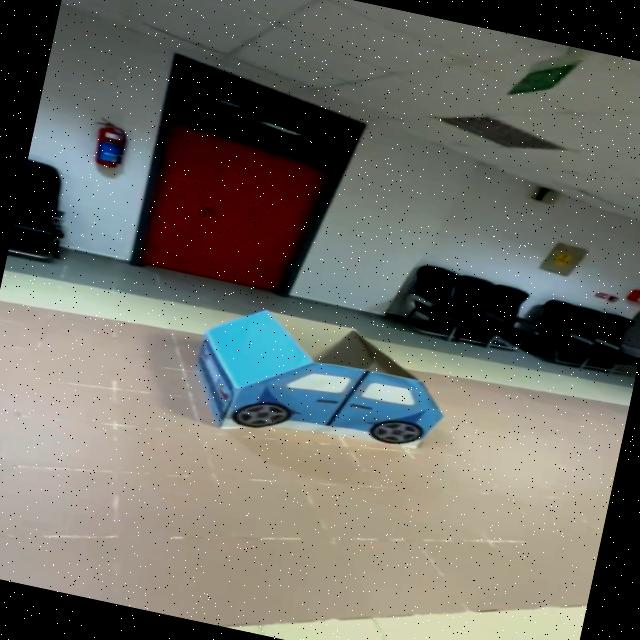blue_car: (166, 281, 473, 482)
